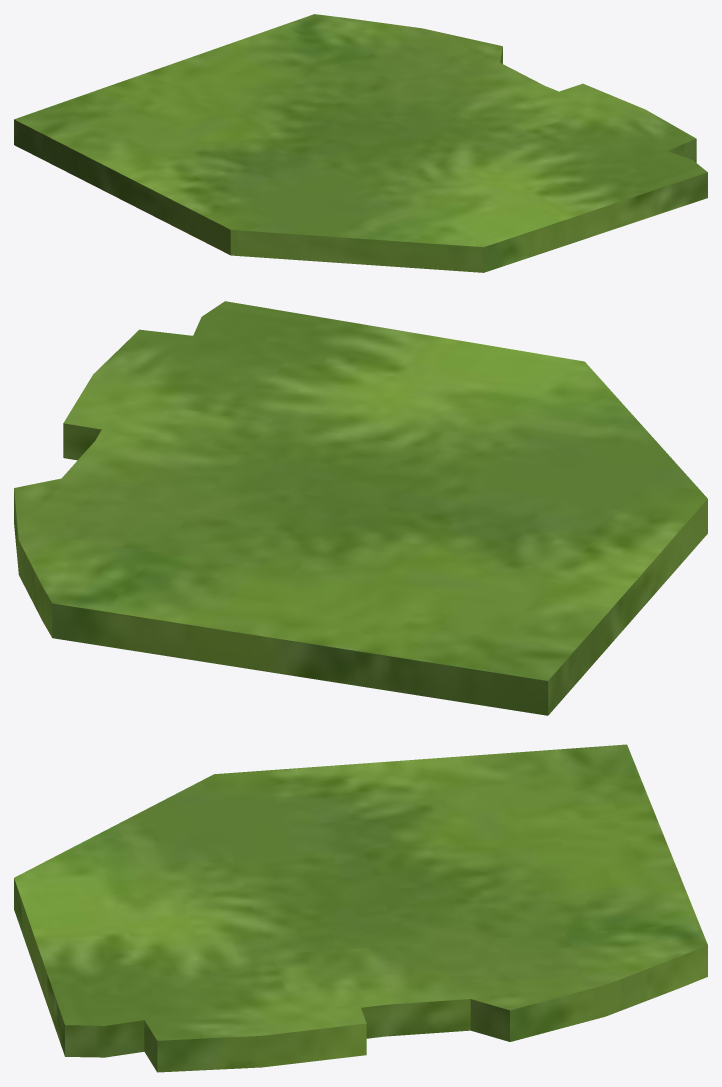
File: Platform03.fbx
3 views of the same model, one above another, from view 1: azimuth 30°, elevation 25°; view 2: azimuth 150°, elevation 25°; view 3: azimuth 270°, elevation 25° (orthographic). The views are drawn at different scales.
Parts seen in each view (by area): view 1: Cube__13_.001; view 2: Cube__13_.001; view 3: Cube__13_.001.
Part boxes in pixels (left/top/right/bottom): Cube__13_.001: left=14, top=14, right=707, bottom=272; Cube__13_.001: left=14, top=301, right=707, bottom=715; Cube__13_.001: left=14, top=744, right=707, bottom=1072.
Size of the model in its own units: 4256 by 212 by 4212.
